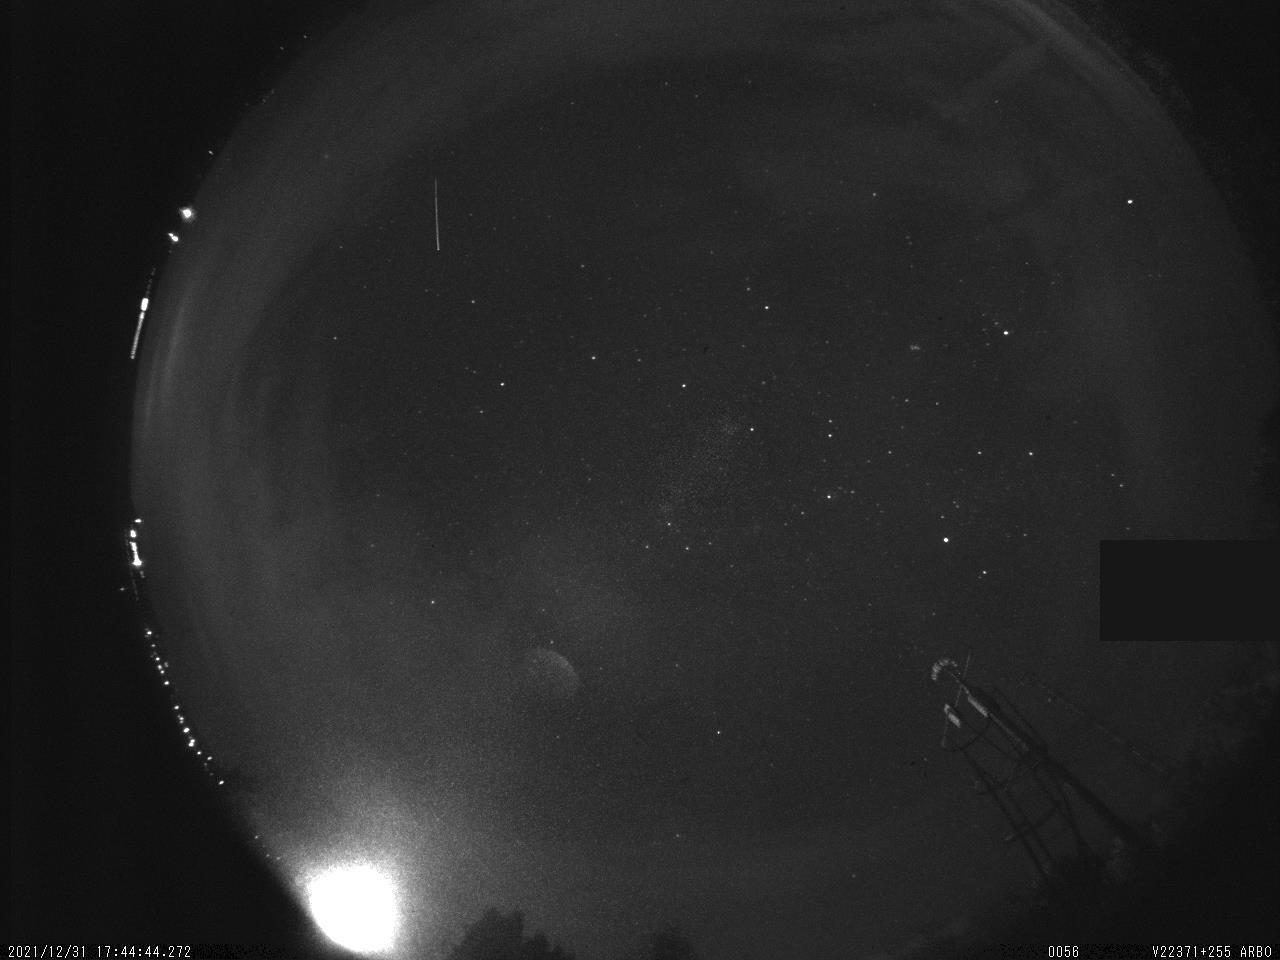Meteor: (428, 167, 446, 256)
